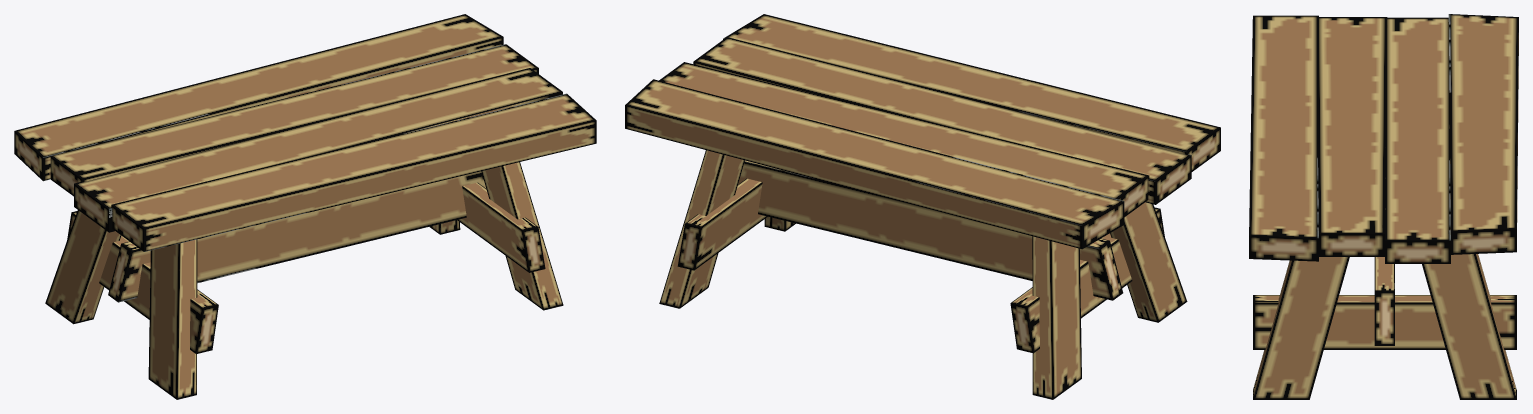
File: deco_cathedral_table.FBX
3 renders of one model, left to right at view 1: azimuth 30°, elevation 25°; view 2: azimuth 150°, elevation 25°; view 3: azimuth 270°, elevation 25°, orthographic.
Parts seen in each view (by area): view 1: deco_cathedral_table; view 2: deco_cathedral_table; view 3: deco_cathedral_table.
Boxes of the visible parts, left/top/right/bottom form: deco_cathedral_table: left=14, top=14, right=596, bottom=399; deco_cathedral_table: left=625, top=14, right=1220, bottom=399; deco_cathedral_table: left=1249, top=14, right=1518, bottom=399.
Bounding box in the file's own units: 4.07 × 1.57 × 2.05.
Materials: 1 (1 with a texture image).
